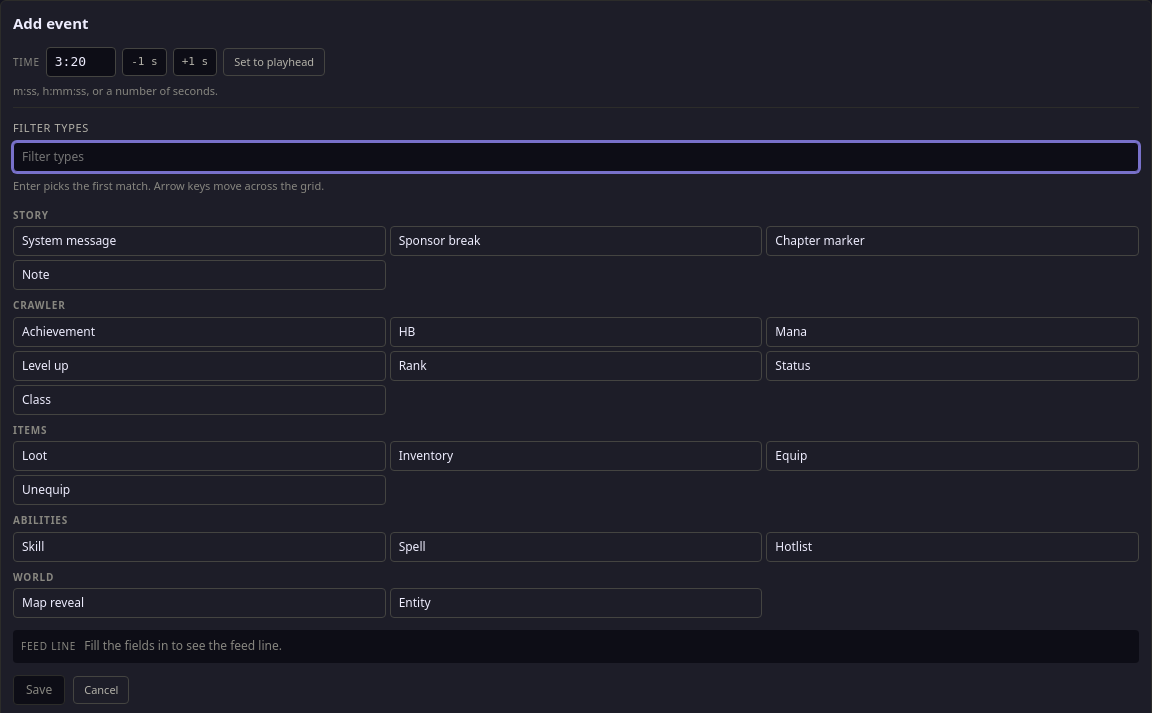
Test: EventForm - the time row (FR-1005) › opens at the playhead and nudges by a second
What coordinates should you click on to do the following:
click the button "Note"
I would click on:
 (36, 275)
Its box is [13,260,386,290].
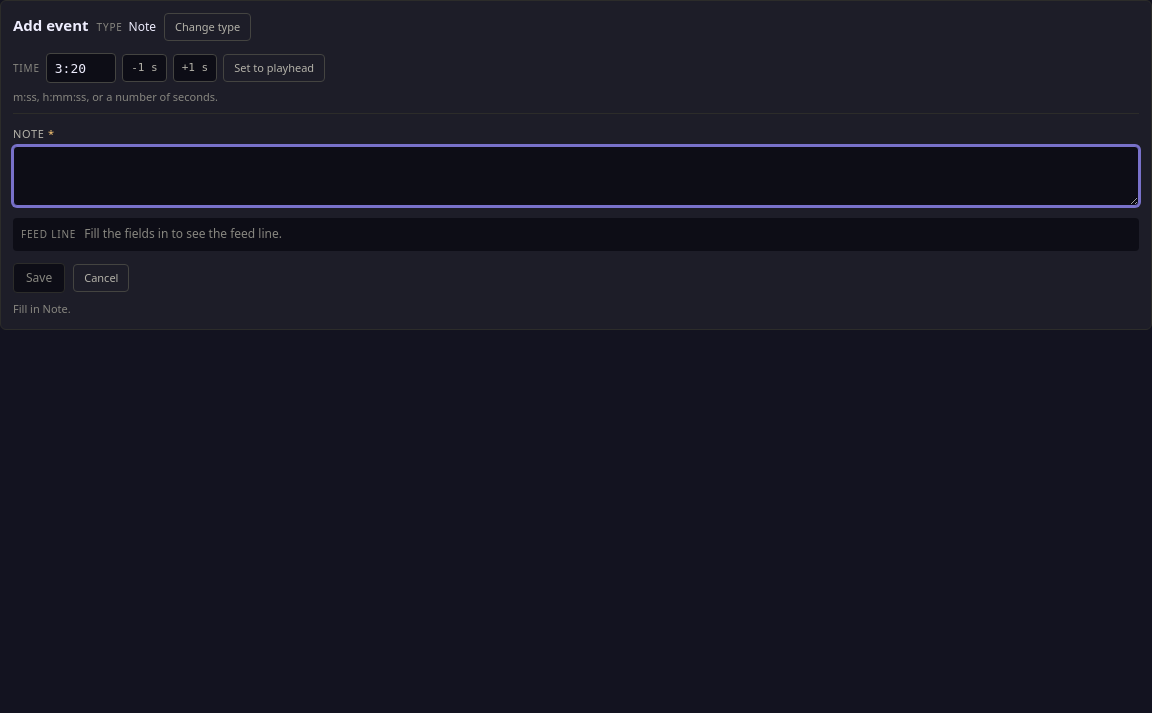
Expected: the field with test id "event-time" holds "3:20", [46,53,116,83]
What coordinates should you click on to do the following:
click the button with test id "nudge-back"
I would click on:
 (144, 68)
Its box is [122,54,167,82].
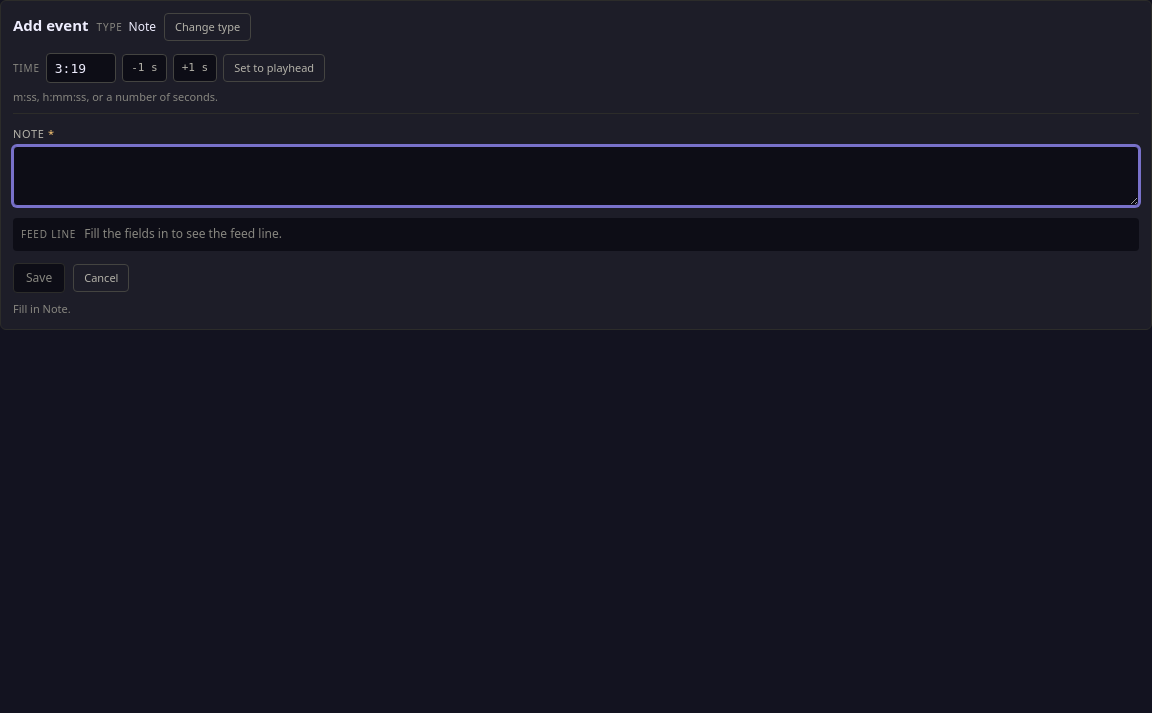
Expected: the field with test id "event-time" holds "3:19", [46,53,116,83]
What coordinates should you click on to do the following:
click the button with test id "nudge-forward"
I would click on:
 (195, 68)
Its box is [173,54,217,82].
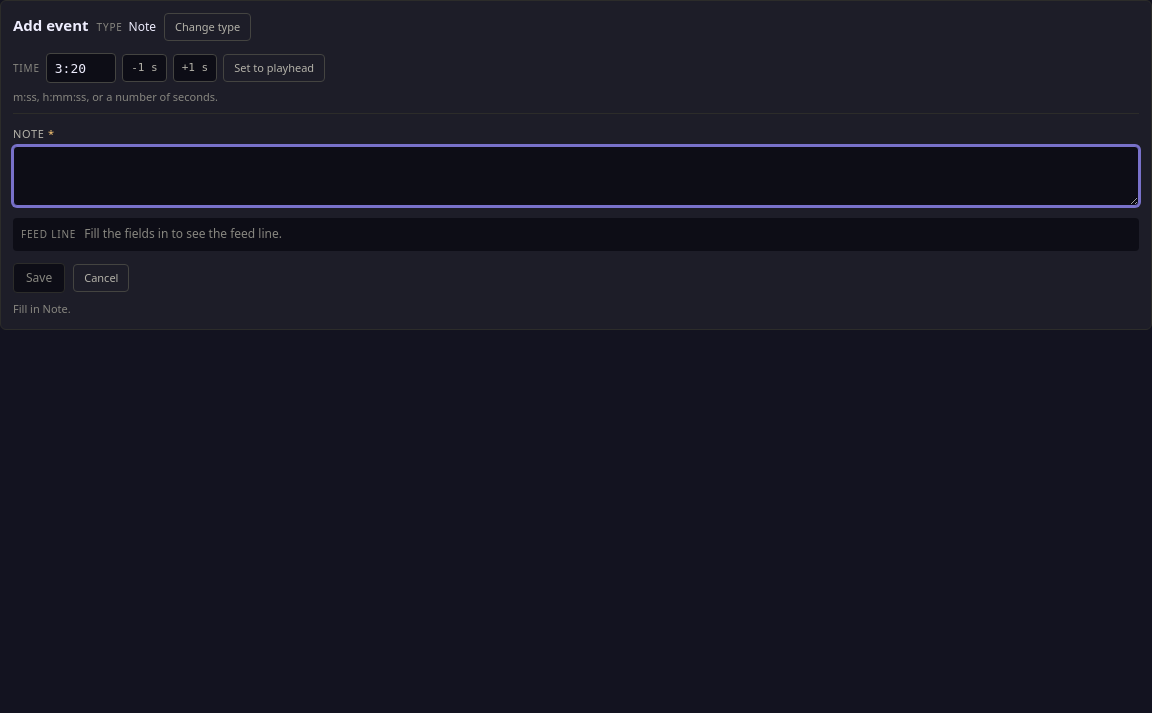
What coordinates should you click on to do the following:
click the button with test id "nudge-forward"
I would click on:
 (195, 68)
Its box is [173,54,217,82].
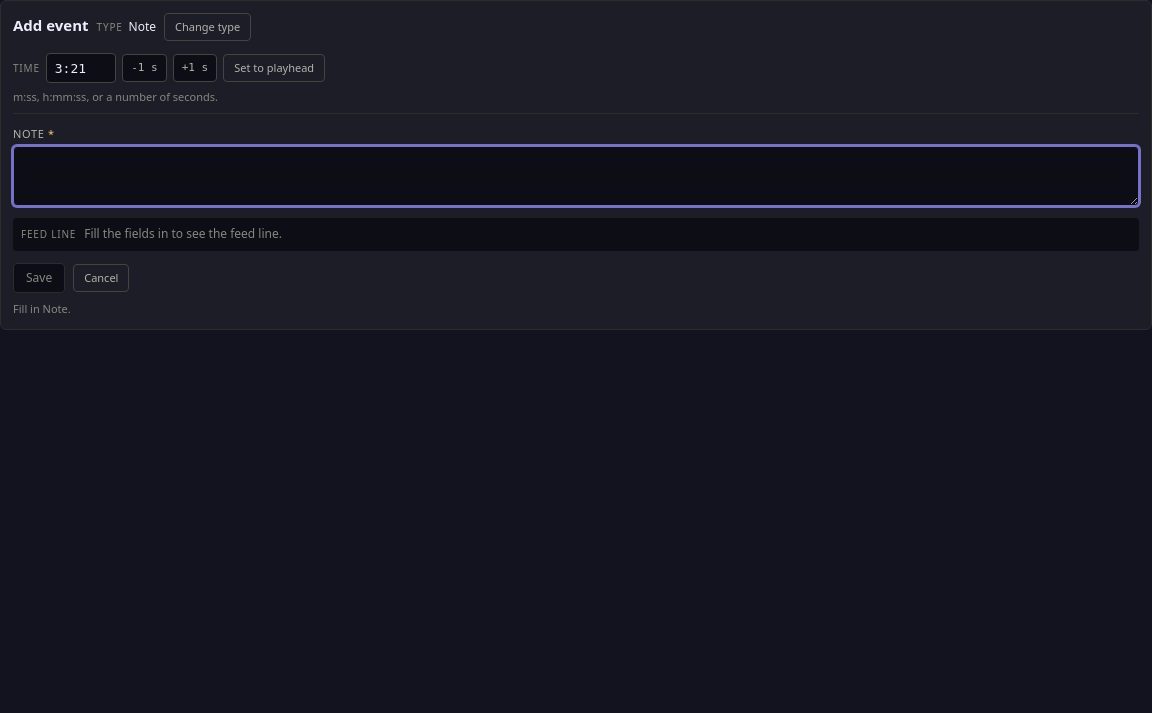
Expected: the field with test id "event-time" holds "3:21", [46,53,116,83]
